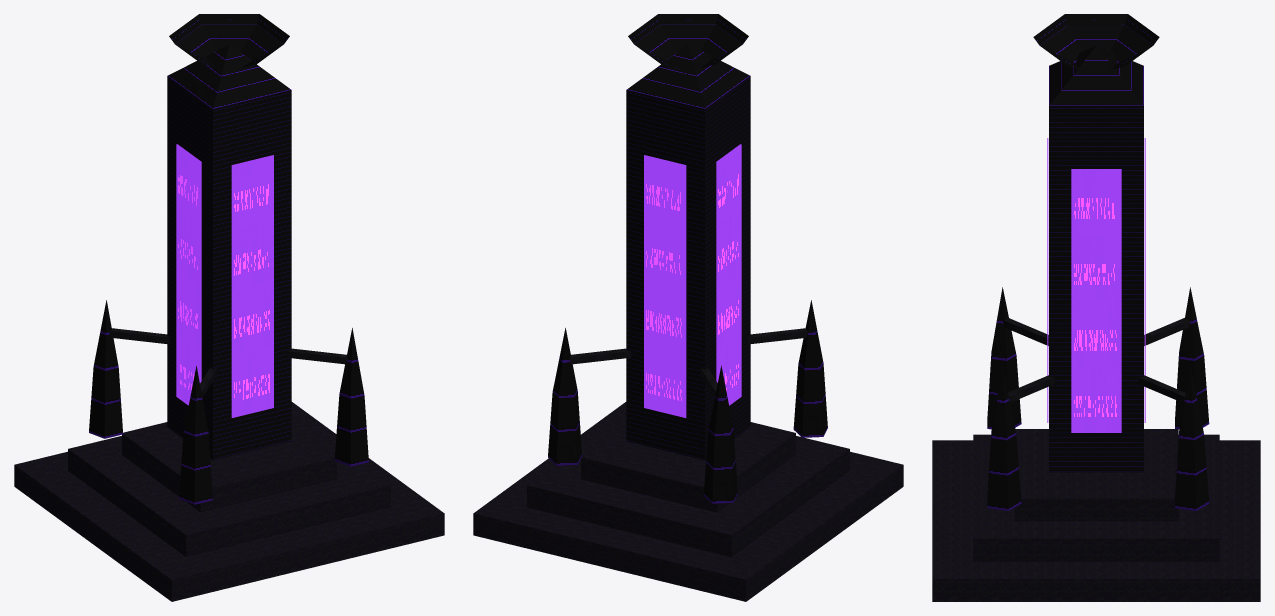
Rendered from siegel.glb.
3 views of the same model, side by side, from view 1: azimuth 30°, elevation 25°; view 2: azimuth 150°, elevation 25°; view 3: azimuth 270°, elevation 25° (orthographic). The views are drawn at different scales.
Parts seen in each view (by area): view 1: obelisk, step0, step1, runes0, step2, runes3, cradle, tip, spike3, spike0, spike2, chain2 (+1 smaller); view 2: obelisk, step0, step1, runes2, step2, runes3, cradle, tip, spike2, spike1, spike3, chain1 (+1 smaller); view 3: step0, obelisk, runes1, step1, step2, tip, cradle, spike0, spike1, spike2, spike3, chain1 (+5 smaller).
Boxes of the visible parts, x1,y1,x2,y2 form: obelisk: [167, 76, 291, 460]; step0: [14, 402, 444, 601]; step1: [68, 413, 390, 557]; runes0: [231, 155, 273, 417]; step2: [122, 422, 336, 512]; runes3: [176, 144, 201, 405]; cradle: [169, 14, 289, 68]; tip: [168, 44, 290, 108]; spike3: [179, 365, 212, 504]; spike0: [334, 328, 368, 466]; spike2: [89, 300, 122, 438]; chain2: [109, 328, 169, 344]; obelisk: [626, 76, 750, 460]; step0: [473, 402, 903, 601]; step1: [527, 413, 849, 557]; runes2: [644, 155, 686, 417]; step2: [581, 422, 795, 512]; runes3: [716, 144, 741, 405]; cradle: [628, 14, 748, 68]; tip: [627, 44, 749, 108]; spike2: [703, 365, 737, 503]; spike1: [548, 328, 582, 465]; spike3: [793, 300, 827, 437]; chain1: [570, 348, 630, 364]; step0: [932, 440, 1260, 601]; obelisk: [1049, 105, 1143, 472]; runes1: [1071, 169, 1121, 432]; step1: [973, 434, 1219, 561]; step2: [1014, 429, 1178, 521]; tip: [1049, 45, 1143, 105]; cradle: [1033, 14, 1159, 70]; spike0: [987, 366, 1021, 510]; spike1: [1175, 366, 1209, 510]; spike2: [1175, 287, 1209, 429]; spike3: [987, 287, 1021, 429]; chain1: [1138, 375, 1185, 403].
Size of the model in its own units: 5.2 by 8.65 by 5.2.
4 materials, 4 textured.
